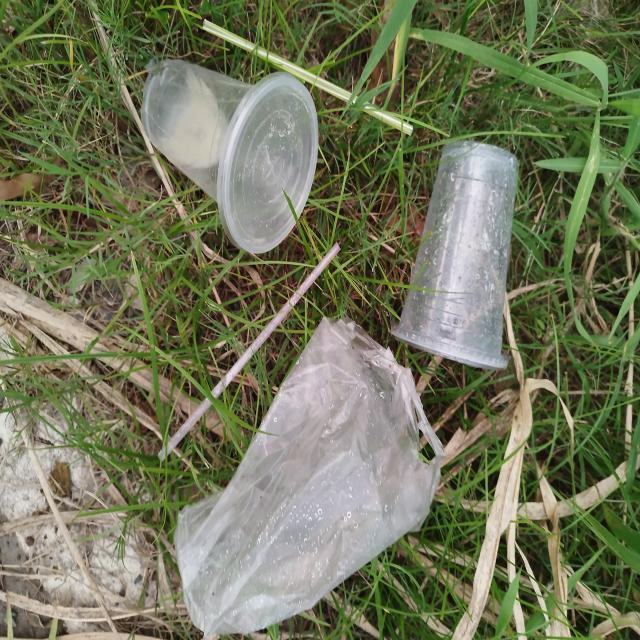bag: (172, 314, 448, 637)
drinking straw: (157, 241, 341, 463), (202, 17, 414, 137)
plastic glass: (140, 58, 319, 255), (390, 140, 520, 370)
